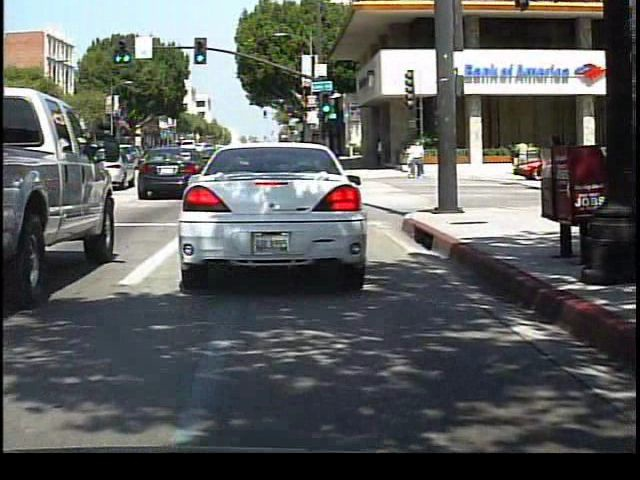person: (511, 136, 533, 177), (407, 136, 427, 179), (440, 136, 458, 174)
